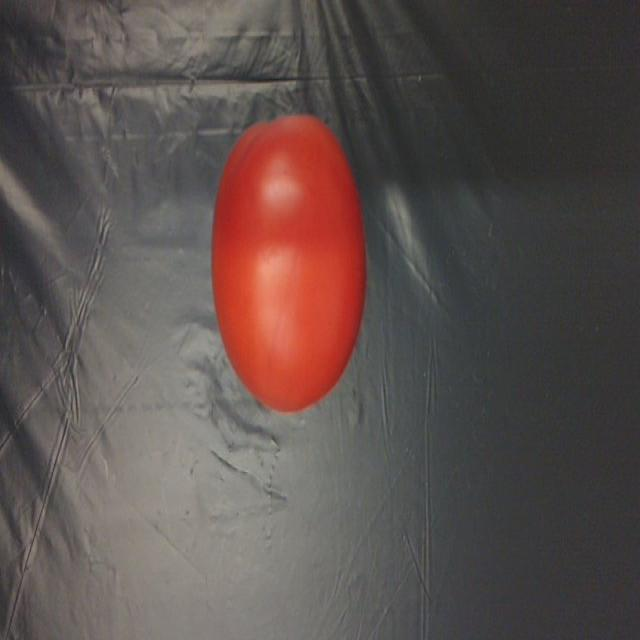kirmizi: (217, 116, 380, 421)
